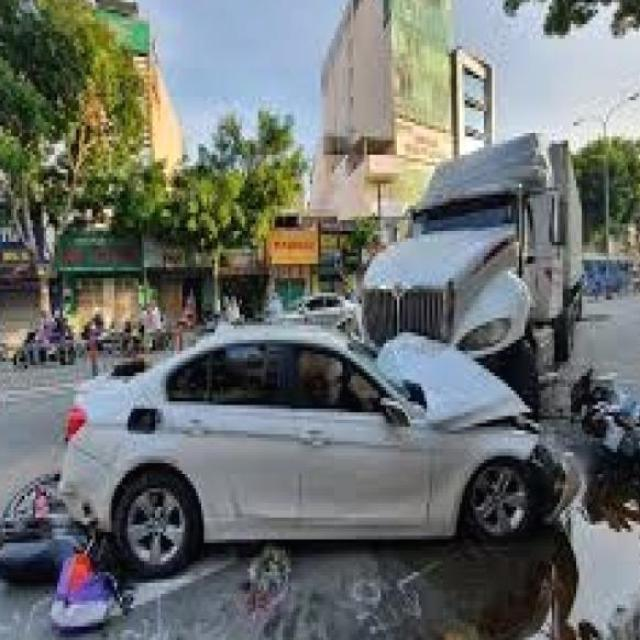accident: (364, 310, 640, 555), (0, 435, 175, 640)
